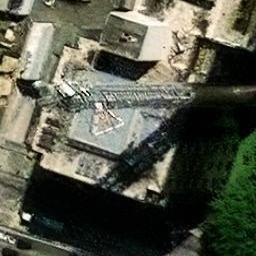heliponto: (69, 83, 136, 155)
